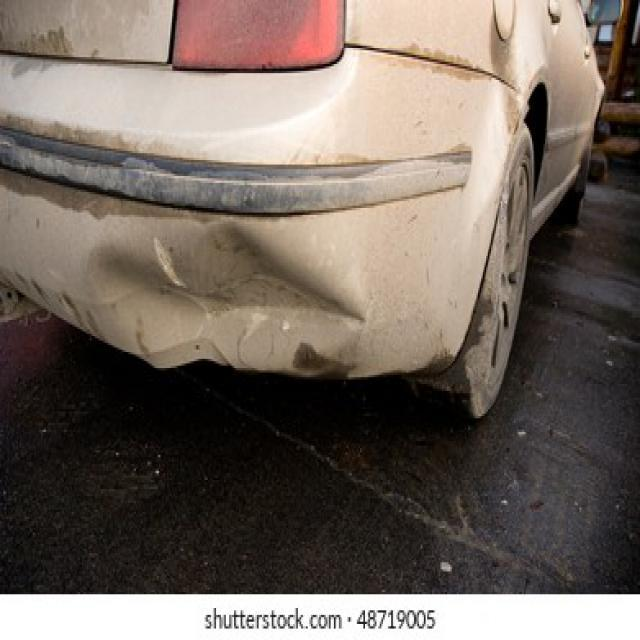rear-bumper-dent: (0, 167, 498, 410)
